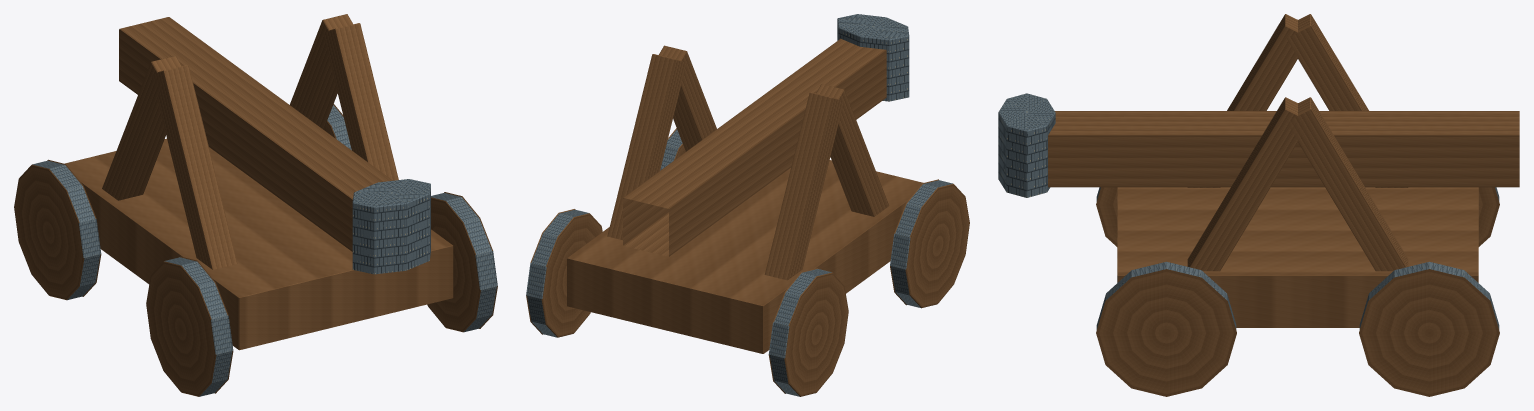
The model's file is unit-RAM-lod0.glb.
The picture shows the model from 3 angles, left to right: view 1: azimuth 30°, elevation 25°; view 2: azimuth 150°, elevation 25°; view 3: azimuth 270°, elevation 25°; orthographic projection. The views are drawn at different scales.
Bounding box in the file's own units: 0.394 × 0.3589 × 0.635.
1 material, 1 textured.
